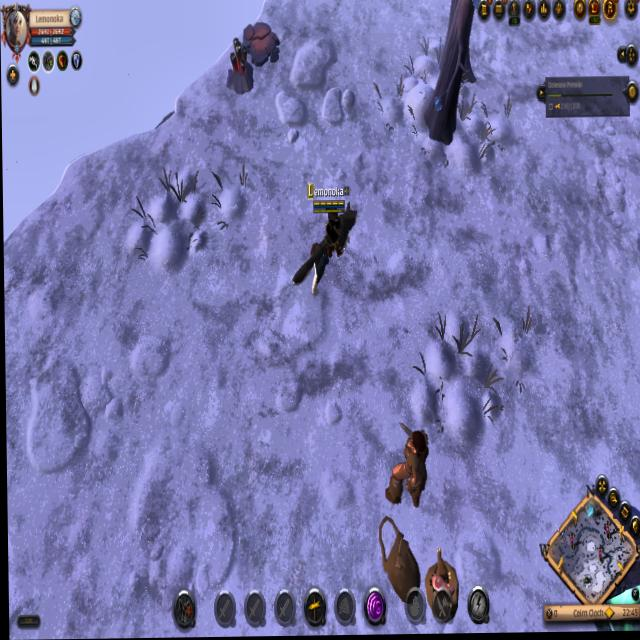ore tier 5: (225, 36, 255, 100)
